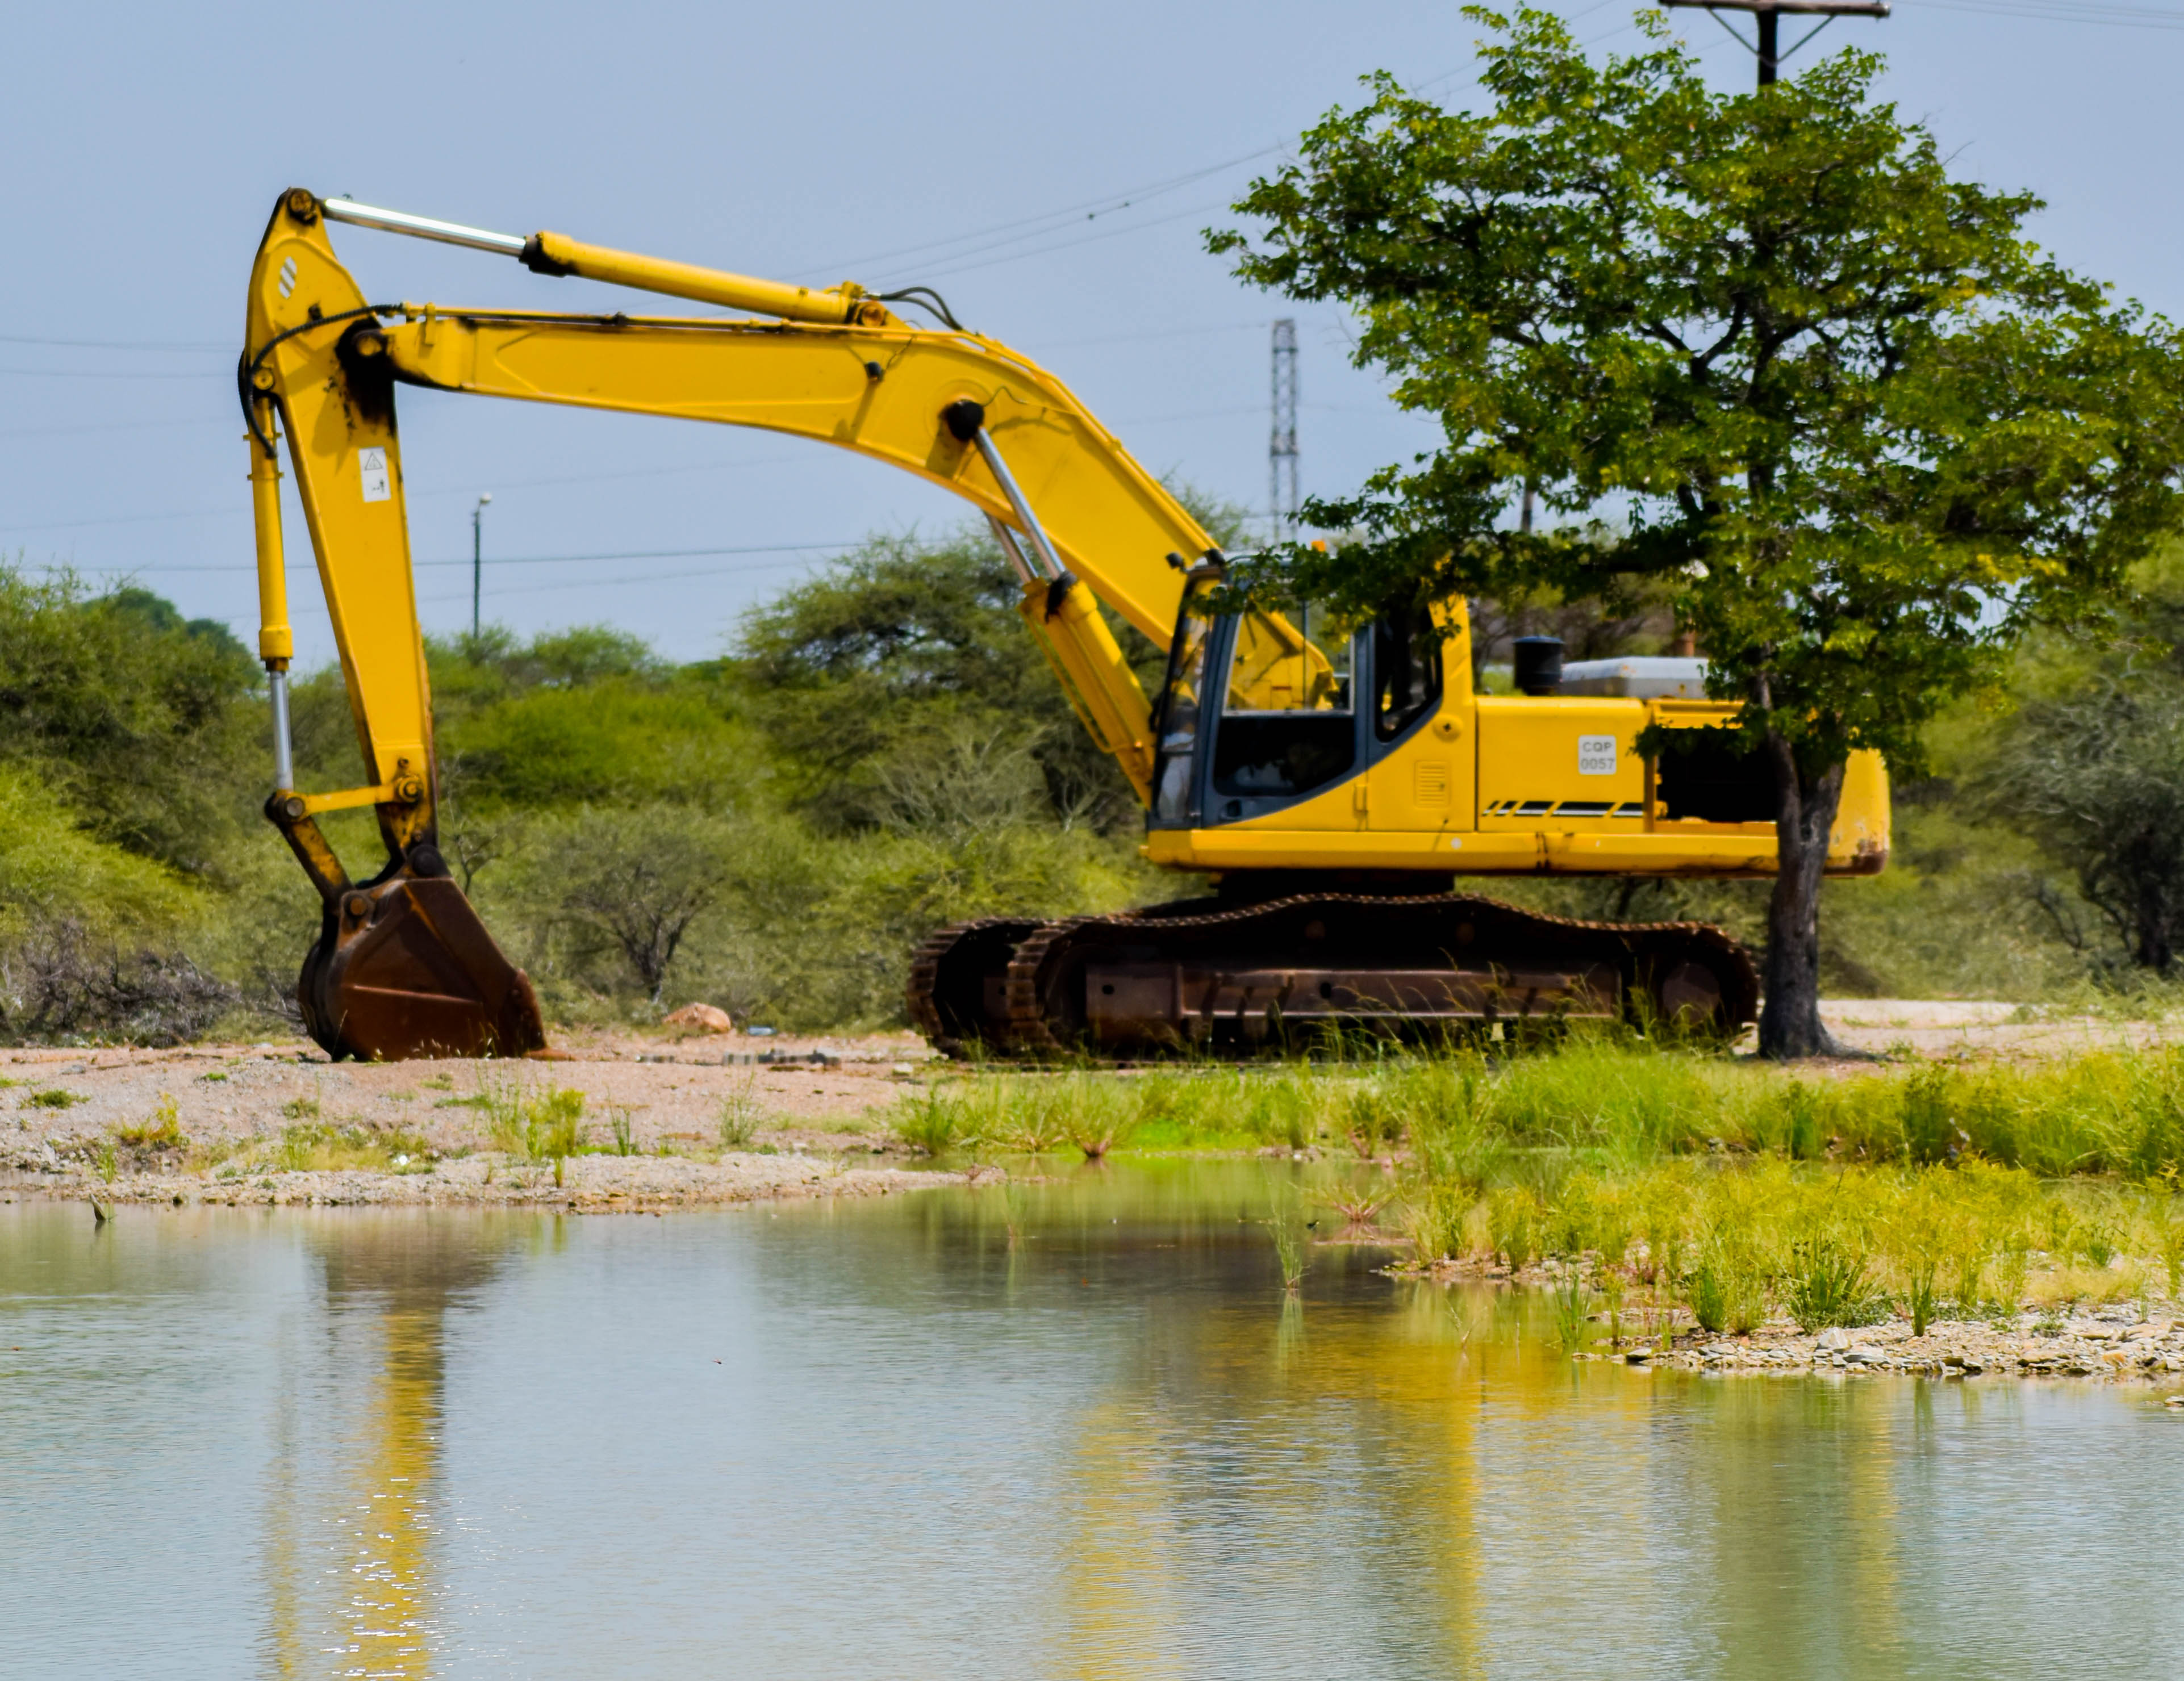excavator: (203, 168, 1902, 1098)
